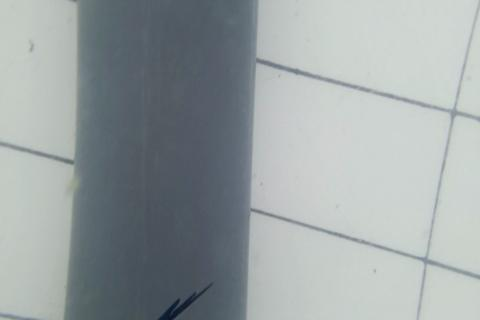keretakan: (150, 278, 216, 320)
